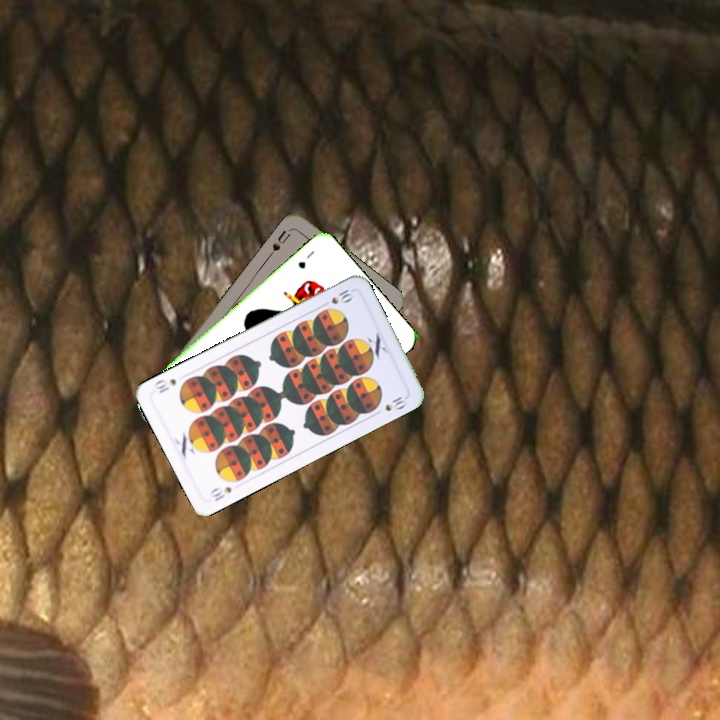GU: (294, 246, 317, 271)
S10: (327, 285, 356, 307), (206, 482, 234, 504)
SU: (265, 225, 295, 259)
